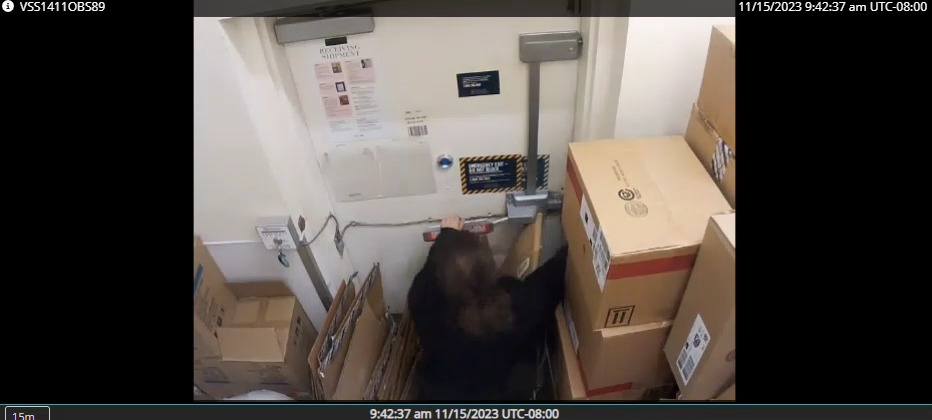No-gloves: (441, 214, 477, 233)
